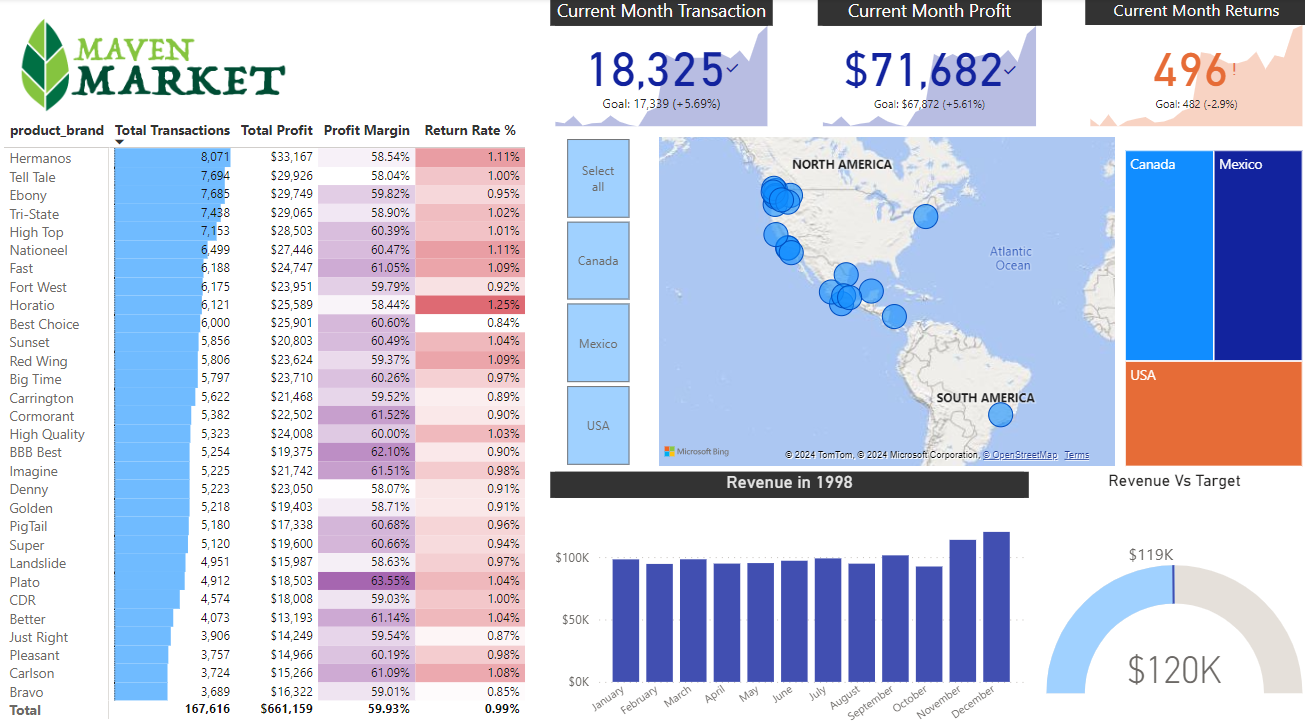

The dashboard page shown, as its layout file describes it:
{"tool":"powerbi","page":{"name":"Page 1","canvas":[1280,720],"ordinal":0},"visuals":[{"type":"image","box":[9.8,0,279.9,130.8],"z":0},{"type":"pivotTable","fields":{"Values":["Measure Table.Total Transactions","Measure Table.Total Profit","Measure Table.Profit Margin","Measure Table.Return Rate %"],"Rows":["Products.product_brand"]},"box":[0,114.9,529.3,605.1],"z":1000},{"type":"kpi","title":"Current Month Transaction","fields":{"TrendLine":["Calendar.Start of Month"],"Indicator":["Measure Table.Total Transactions"],"Goal":["Measure Table.Last Month transactions"]},"box":[539.1,0,217.6,130.8],"z":2000},{"type":"kpi","title":"Current Month Profit","fields":{"TrendLine":["Calendar.Start of Month"],"Indicator":["Measure Table.Total Profit"],"Goal":["Measure Table.Last Month Profit"]},"box":[800.1,0,218.8,130.8],"z":3000},{"type":"kpi","title":"Current Month Returns","fields":{"TrendLine":["Calendar.Start of Month"],"Indicator":["Measure Table.Total Returns"],"Goal":["Measure Table.Last Month Returns"]},"box":[1062.3,0,217.6,130.8],"z":4000},{"type":"map","fields":{"Category":["Stores.store_city"],"Size":["Measure Table.Total Transactions"]},"box":[640.5,130.8,456,332.5],"z":5000},{"type":"slicer","fields":{"Values":["Stores.store_country"]},"box":[529.3,130.8,111.2,332.5],"z":6000},{"type":"treemap","fields":{"Group":["Stores.store_country","Stores.store_state","Stores.store_city"],"Values":["Measure Table.Total Transactions"]},"box":[1096.5,144.2,183.4,319],"z":6001},{"type":"columnChart","title":"Revenue in 1998","fields":{"Y":["Measure Table.Total Revenue"],"Category":["Calendar.date.Variation.Date Hierarchy.Month"]},"box":[539.1,463.3,468.2,256.7],"z":6002},{"type":"gauge","title":"Revenue Vs Target","fields":{"Y":["Measure Table.Total Revenue"],"TargetValue":["Measure Table.Revenue Target"]},"box":[1019.5,463.3,260.4,256.7],"z":6003}]}

Visuals, with their boxes in screenshot pixels (x1, y1, x2, y2), scaled from the page's 1280x720 canvas onto the 1305x728 screenshot:
image: [x1=10, y1=0, x2=295, y2=132]
pivotTable - Measure Table.Total Transactions x Measure Table.Total Profit: [x1=0, y1=116, x2=540, y2=727]
"Current Month Transaction" kpi: [x1=550, y1=0, x2=771, y2=132]
"Current Month Profit" kpi: [x1=816, y1=0, x2=1039, y2=132]
"Current Month Returns" kpi: [x1=1083, y1=0, x2=1304, y2=132]
map - Stores.store_city x Measure Table.Total Transactions: [x1=653, y1=132, x2=1118, y2=468]
slicer - Stores.store_country: [x1=540, y1=132, x2=653, y2=468]
treemap - Stores.store_country x Stores.store_state: [x1=1118, y1=146, x2=1304, y2=468]
"Revenue in 1998" columnChart: [x1=550, y1=468, x2=1027, y2=727]
"Revenue Vs Target" gauge: [x1=1039, y1=468, x2=1304, y2=727]
